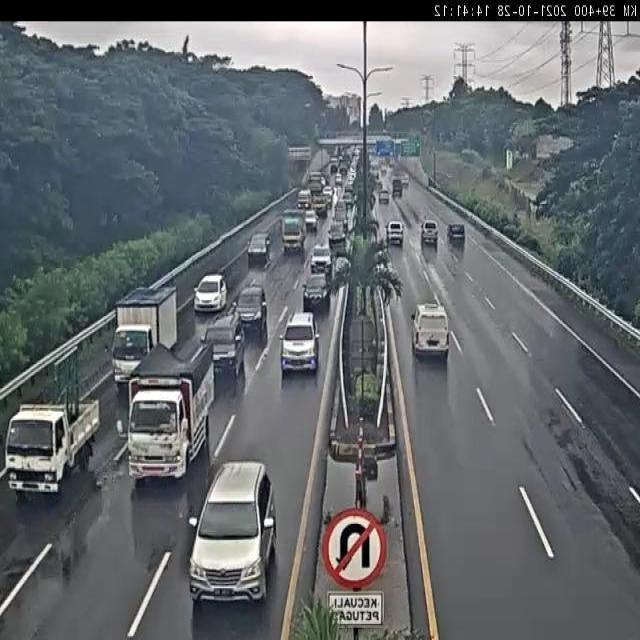Car: (188, 460, 277, 602), (204, 311, 248, 393), (280, 312, 318, 374), (236, 282, 269, 340), (193, 274, 228, 312), (246, 232, 272, 268), (310, 242, 332, 274), (328, 219, 346, 248), (421, 220, 439, 245), (386, 220, 404, 245), (304, 210, 318, 233), (297, 189, 312, 210), (380, 165, 388, 175)
Truck: (125, 336, 216, 480), (0, 392, 104, 504), (112, 284, 179, 388), (302, 268, 332, 312), (281, 211, 306, 254), (311, 189, 328, 217), (447, 222, 465, 243), (378, 189, 389, 205), (401, 175, 409, 188)
Van: (411, 302, 449, 358)
